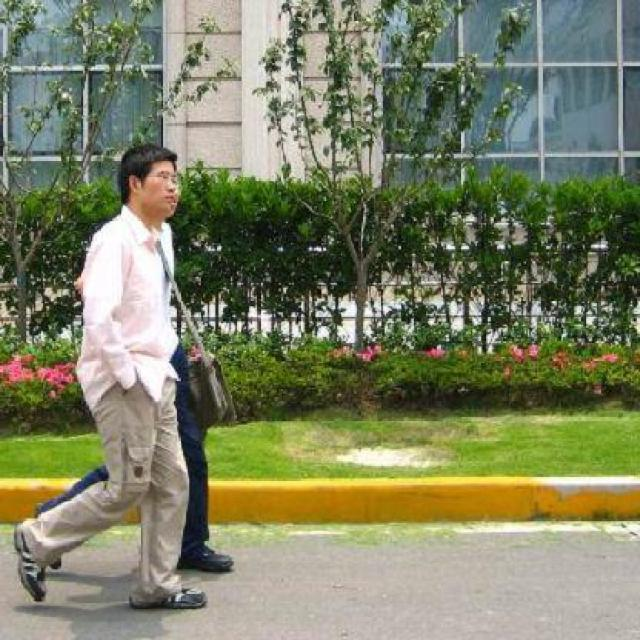Person: (9, 134, 206, 638)
